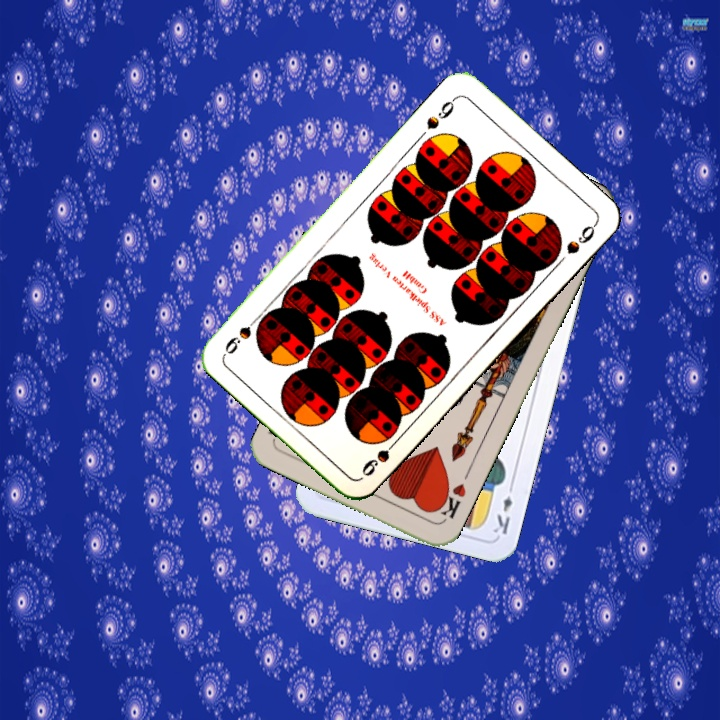EK: (489, 479, 517, 537)
HK: (431, 479, 469, 521)
S9: (357, 429, 403, 479), (422, 92, 461, 132)
